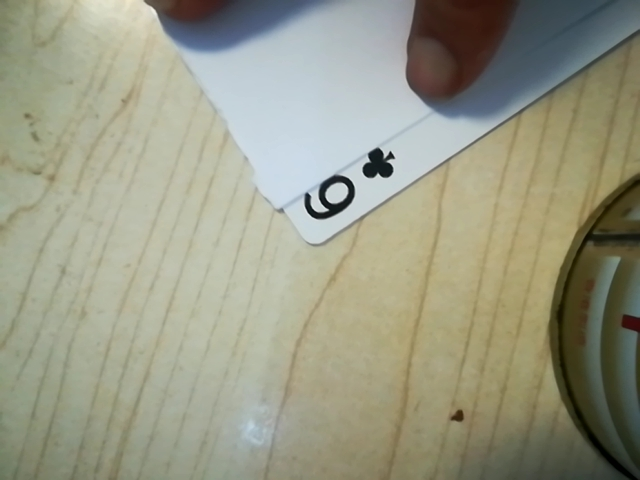mh 6: (294, 138, 411, 232)
